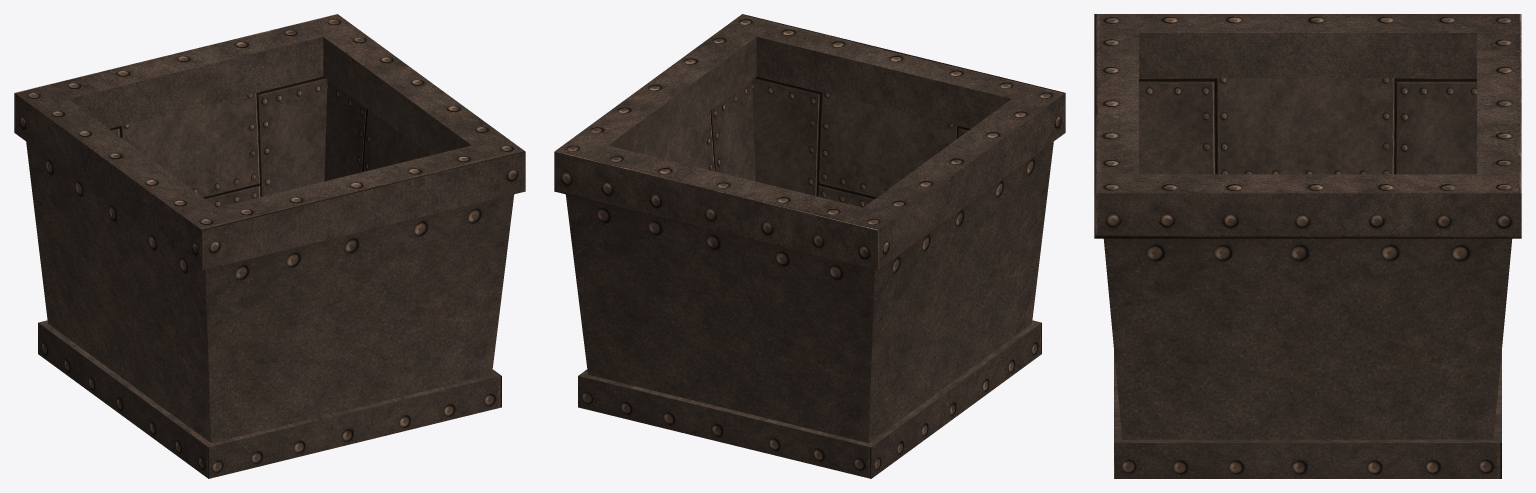
Rendered from Candy_Basket_Metal.fbx.
3 views of the same model, side by side, from view 1: azimuth 30°, elevation 25°; view 2: azimuth 150°, elevation 25°; view 3: azimuth 270°, elevation 25° (orthographic). The views are drawn at different scales.
Parts seen in each view (by area): view 1: Candy_Basket_Metal; view 2: Candy_Basket_Metal; view 3: Candy_Basket_Metal.
Boxes of the visible parts, x1,y1,x2,y2 form: Candy_Basket_Metal: [14, 14, 525, 478]; Candy_Basket_Metal: [554, 14, 1065, 478]; Candy_Basket_Metal: [1094, 14, 1521, 478].
Size of the model in its own units: 55.73 by 42.61 by 56.13.
